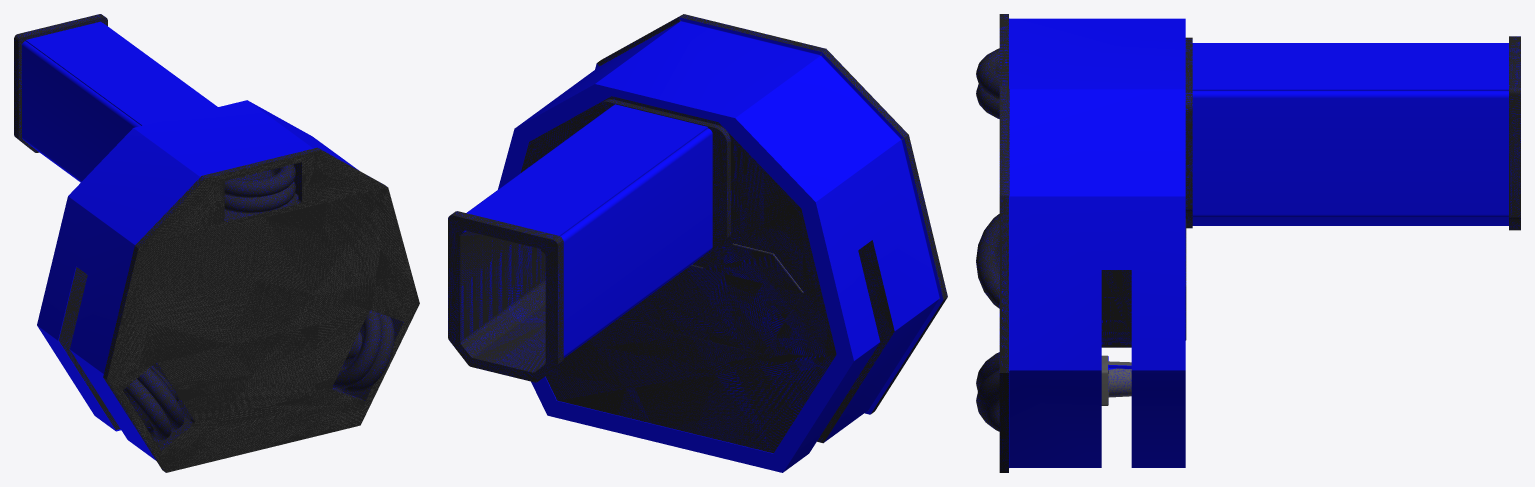
The picture shows the model from 3 angles, left to right: view 1: azimuth 30°, elevation 25°; view 2: azimuth 150°, elevation 25°; view 3: azimuth 270°, elevation 25°; orthographic projection. The views are drawn at different scales.
Visible parts, largest first — view 1: SketchUp (×11); view 2: SketchUp (×10); view 3: SketchUp (×10).
Boxes of the visible parts, <box> form: SketchUp (×11): <box>14,14,419,472</box>; SketchUp (×10): <box>448,14,947,472</box>; SketchUp (×10): <box>976,14,1520,472</box>.
Size of the model in its own units: 23.08 by 27.32 by 20.06.
